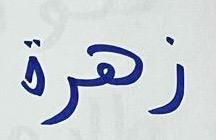heh: (81, 43, 146, 89)
noon: (147, 34, 187, 118)
reh: (46, 68, 80, 127)
teh_marbota: (17, 36, 46, 97)
